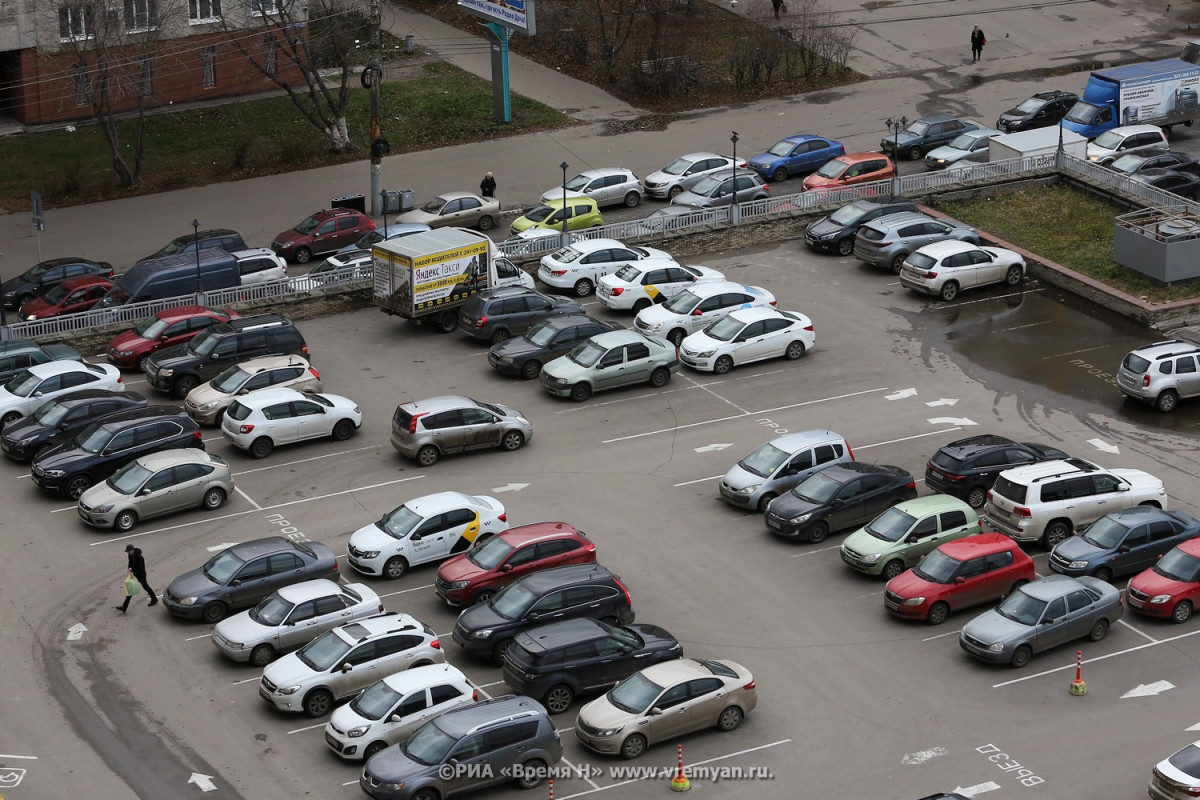Car: (359, 695, 562, 800), (259, 611, 444, 717), (576, 658, 757, 760), (452, 563, 635, 661), (501, 617, 683, 715), (371, 227, 536, 332), (983, 457, 1168, 549), (30, 404, 205, 499), (958, 574, 1123, 668), (161, 537, 340, 623), (211, 578, 384, 666), (324, 663, 479, 761), (346, 491, 508, 580), (883, 532, 1036, 625), (435, 522, 597, 609), (145, 313, 310, 398), (77, 448, 235, 532), (763, 462, 918, 543), (840, 494, 982, 579), (1058, 58, 1200, 140), (1048, 505, 1200, 581), (719, 429, 855, 512), (924, 434, 1070, 509), (0, 389, 148, 462), (538, 329, 679, 402), (391, 395, 533, 467), (183, 353, 322, 426), (89, 246, 242, 311), (221, 388, 362, 458), (633, 281, 777, 346), (679, 307, 815, 375), (487, 314, 626, 379), (106, 305, 240, 371), (0, 360, 123, 430), (853, 211, 980, 274), (899, 239, 1027, 301), (537, 239, 673, 297), (459, 287, 586, 343), (804, 194, 919, 255), (596, 260, 726, 313), (1126, 537, 1200, 623), (1116, 340, 1200, 413), (0, 256, 115, 309), (271, 208, 375, 264), (643, 151, 748, 200), (17, 274, 120, 322), (746, 134, 845, 182), (880, 114, 979, 160), (134, 228, 248, 266), (539, 167, 645, 207), (395, 192, 501, 231), (670, 168, 772, 208), (509, 197, 604, 238), (801, 151, 895, 192), (1087, 124, 1171, 169), (989, 124, 1088, 162), (0, 339, 83, 384), (995, 90, 1079, 133), (924, 128, 1005, 169), (1148, 740, 1200, 800), (336, 223, 431, 253), (1109, 148, 1200, 177), (226, 247, 289, 285), (1130, 168, 1200, 202), (300, 248, 372, 275), (644, 204, 709, 218), (502, 228, 562, 242), (944, 151, 989, 169), (1181, 39, 1200, 63), (918, 792, 972, 800), (806, 184, 846, 192)
